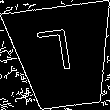L_S: (42, 30, 84, 84)
